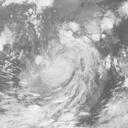cyclone: (38, 47, 78, 91)
